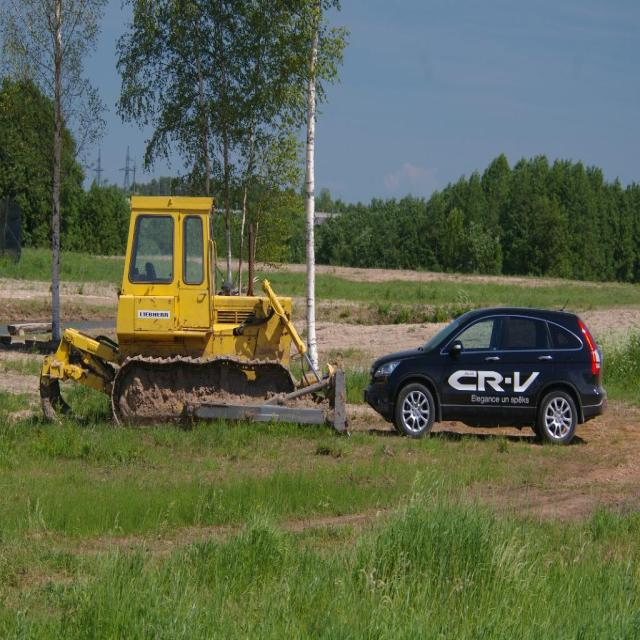car: (362, 291, 606, 450)
